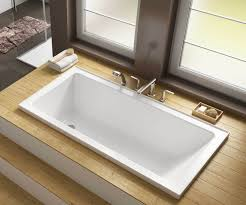bathub: (22, 67, 231, 205)
